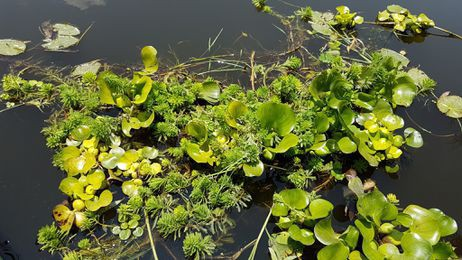water_hyacinth: (2, 52, 462, 260), (250, 1, 459, 51)
